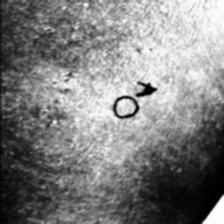Potentially Malignant Skin Tumors: (75, 0, 208, 74)
